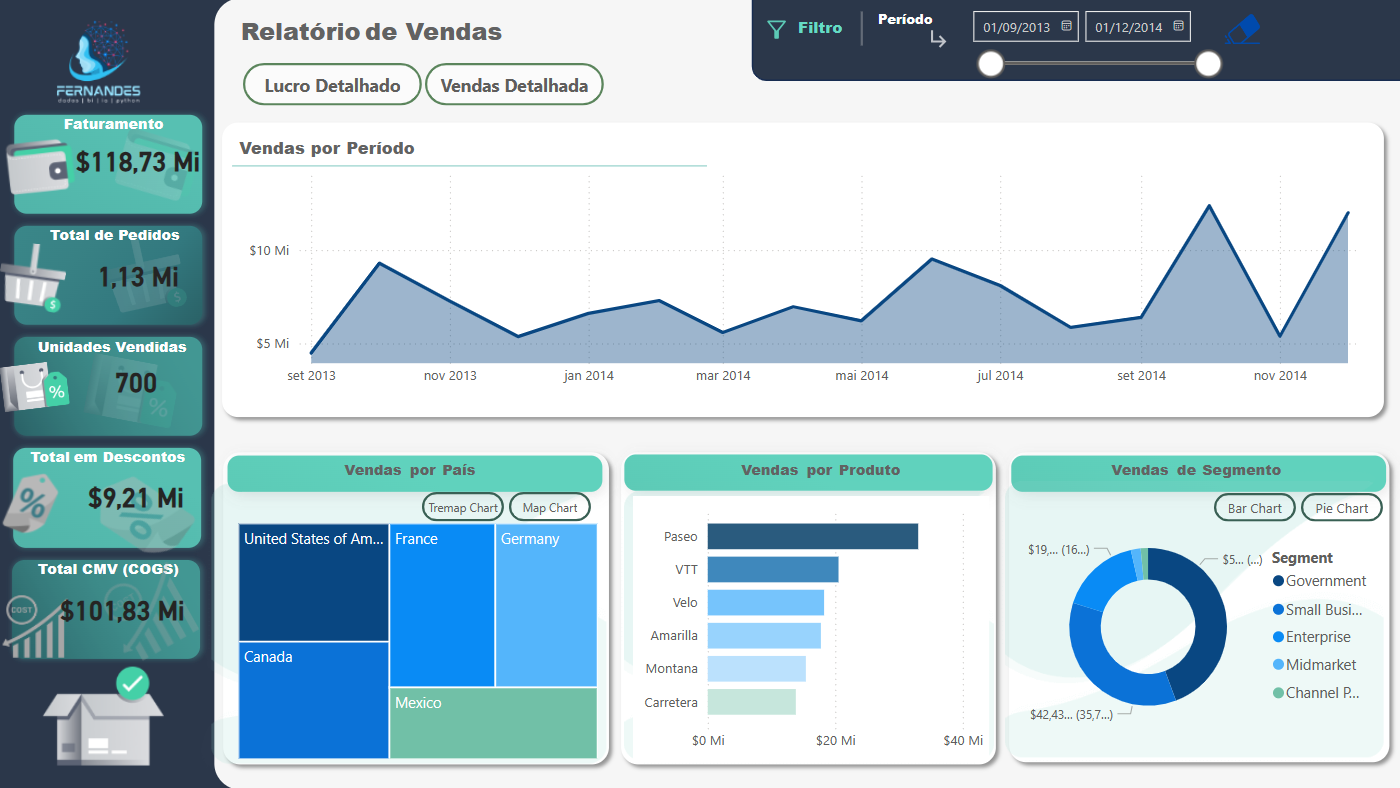

The page's visual inventory and layout, read from the dashboard file:
{"tool":"powerbi","page":{"name":"Geral","canvas":[1280,720],"ordinal":0},"visuals":[{"type":"card","fields":{"Values":["Sum(financials. Sales)"]},"box":[63.3,106.8,134.5,79.1],"z":0},{"type":"donutChart","title":"Vendas por Segmento","fields":{"Y":["Sum(financials. Sales)"],"Category":["financials.Segment"]},"box":[932.6,452.2,331.9,236.2],"z":1000},{"type":"slicer","fields":{"Values":["financials.Date"]},"box":[877.5,0,247.5,77.6],"z":2000},{"type":"treemap","title":"Sales x Country Treemap","fields":{"Group":["financials.Country"],"Values":["Sum(financials. Sales)"]},"box":[217.8,471.1,336.7,224.4],"z":4000},{"type":"areaChart","title":"Vendas por Período","fields":{"Category":["financials.Date"],"Y":["Sum(financials. Sales)"]},"box":[226.8,145.8,1035.3,213.9],"z":5000},{"type":"actionButton","title":"Botão - map","box":[468.9,447.7,74.5,26.6],"z":6000},{"type":"actionButton","title":"Botão - tremap","box":[389,447.7,74.5,26.6],"z":8000},{"type":"card","fields":{"Values":["Sum(financials.Units Sold)"]},"box":[63.3,210.9,134.5,79.1],"z":9000},{"type":"actionButton","title":"Botão - bar","box":[1109.9,448.8,74.5,25.9],"z":10000},{"type":"card","fields":{"Values":["CountNonNull(financials.Product)"]},"box":[61.4,307.9,134.5,79.1],"z":11000},{"type":"actionButton","title":"Botão -pie","box":[1189.3,448.8,74.5,25.9],"z":12000},{"type":"card","fields":{"Values":["Sum(financials.Discounts)"]},"box":[61.4,412.1,134.5,79.1],"z":13000},{"type":"card","fields":{"Values":["Sum(financials.COGS)"]},"box":[37.3,515.2,158.8,79.4],"z":14000},{"type":"image","title":"clean","box":[1111.5,5.6,48.4,41.6],"z":15000},{"type":"clusteredBarChart","title":"Sales x Produto","fields":{"Y":["Sum(financials. Sales)"],"Category":["financials.Product"]},"box":[581.6,451.1,324,240.8],"z":16000},{"type":"actionButton","box":[226.9,57.1,162.7,38.5],"z":17000},{"type":"actionButton","box":[392.4,57.1,162.7,38.5],"z":18000}]}

Visuals, with their boxes in screenshot pixels (x1, y1, x2, y2), scaled from the page's 1280x720 canvas onto the 1400x788 screenshot:
card - Sum(financials. Sales): bbox=[69, 117, 216, 203]
"Vendas por Segmento" donutChart: bbox=[1020, 495, 1383, 753]
slicer - financials.Date: bbox=[960, 0, 1230, 85]
"Sales x Country Treemap" treemap: bbox=[238, 516, 606, 761]
"Vendas por Período" areaChart: bbox=[248, 160, 1380, 394]
"Botão - map" actionButton: bbox=[513, 490, 594, 519]
"Botão - tremap" actionButton: bbox=[425, 490, 507, 519]
card - Sum(financials.Units Sold): bbox=[69, 231, 216, 317]
"Botão - bar" actionButton: bbox=[1214, 491, 1295, 520]
card - CountNonNull(financials.Product): bbox=[67, 337, 214, 424]
"Botão -pie" actionButton: bbox=[1301, 491, 1382, 520]
card - Sum(financials.Discounts): bbox=[67, 451, 214, 538]
card - Sum(financials.COGS): bbox=[41, 564, 214, 651]
"clean" image: bbox=[1216, 6, 1269, 52]
"Sales x Produto" clusteredBarChart: bbox=[636, 494, 990, 757]
actionButton: bbox=[248, 62, 426, 105]
actionButton: bbox=[429, 62, 607, 105]
